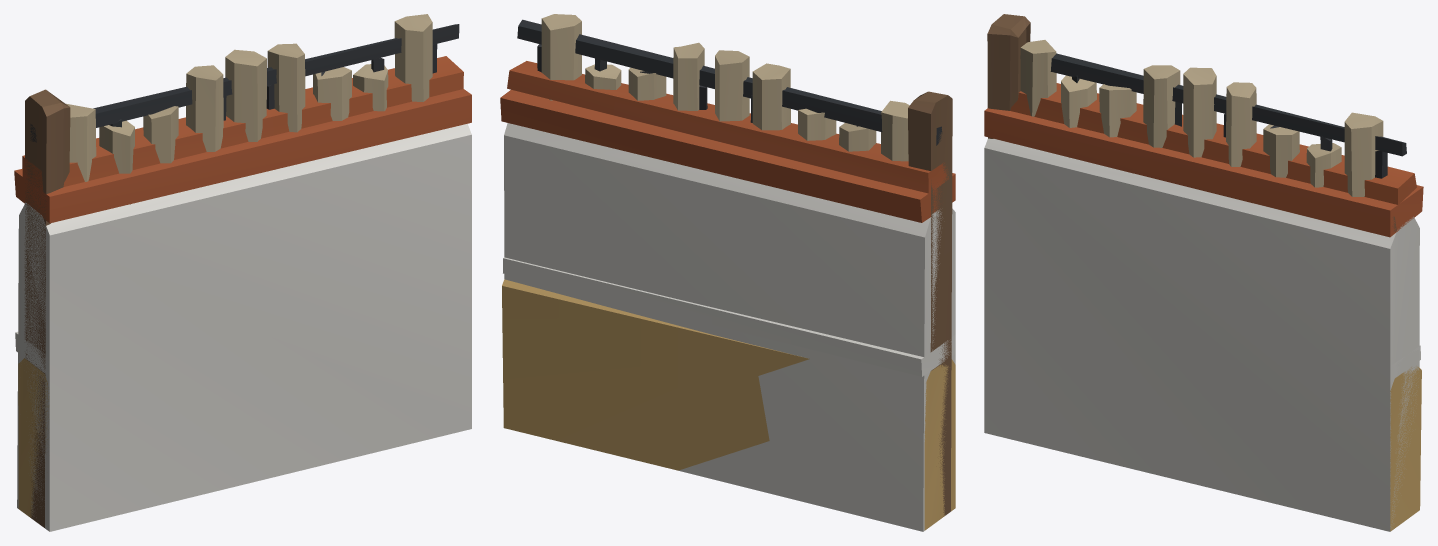
The model's file is fence.glb.
3 renders of one model, left to right at view 1: azimuth 30°, elevation 25°; view 2: azimuth 150°, elevation 25°; view 3: azimuth 330°, elevation 25°, orthographic. The views are drawn at different scales.
Visible parts, largest first — view 1: fence.v0.mesh, fence.v2.mesh, fence.v1.mesh; view 2: fence.v0.mesh, fence.v1.mesh, fence.v2.mesh; view 3: fence.v0.mesh, fence.v2.mesh, fence.v1.mesh.
Boxes of the visible parts, x1=… form: fence.v0.mesh: x1=14, y1=56, x2=471, y2=531; fence.v2.mesh: x1=24, y1=14, x2=432, y2=527; fence.v1.mesh: x1=15, y1=24, x2=459, y2=518; fence.v0.mesh: x1=500, y1=61, x2=955, y2=531; fence.v1.mesh: x1=502, y1=19, x2=955, y2=530; fence.v2.mesh: x1=541, y1=14, x2=952, y2=516; fence.v0.mesh: x1=984, y1=83, x2=1423, y2=531; fence.v2.mesh: x1=987, y1=14, x2=1396, y2=231; fence.v1.mesh: x1=1050, y1=53, x2=1421, y2=531.
Bounding box in the file's own units: 1 × 0.9533 × 0.1462.
